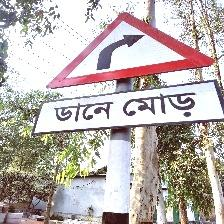Right-turn: (35, 11, 223, 134)
